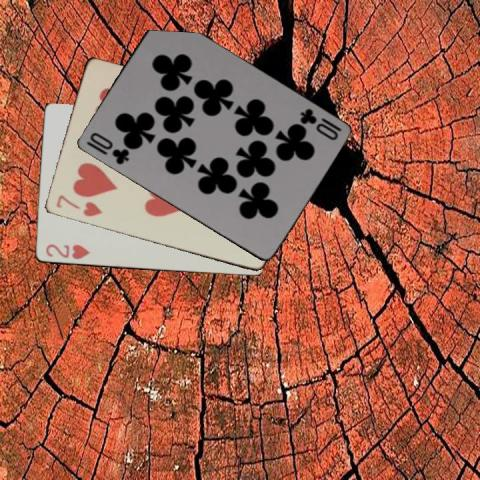10c: (82, 129, 130, 167), (296, 105, 343, 142)
2h: (42, 241, 90, 262)
7h: (53, 192, 104, 219)
